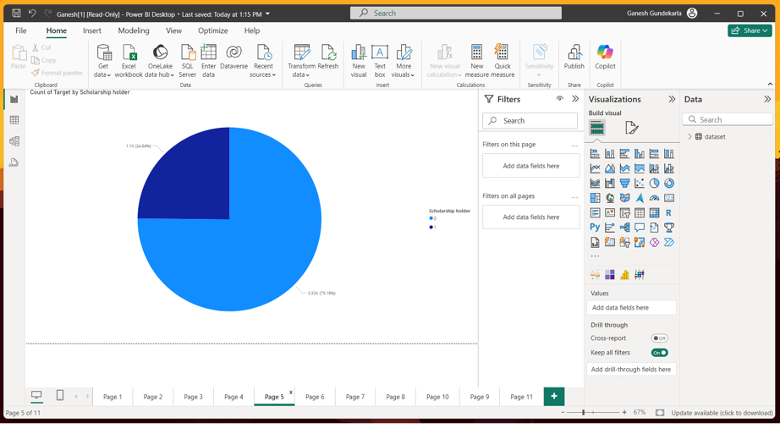

The page's visual inventory and layout, read from the dashboard file:
{"tool":"powerbi","page":{"name":"Page 5","canvas":[1280,720],"ordinal":4},"visuals":[{"type":"pieChart","fields":{"Category":["dataset.Scholarship holder","dataset.Gender"],"Y":["CountNonNull(dataset.Target)"]},"box":[9.4,0,1269.9,720],"z":0}]}

Visuals, with their boxes on the page's 1280x720 design canvas (x1, y1, x2, y2). These are canvas units, not pixel positions in the 780x425 screenshot, which may show the page scaled, cropped or inside an application window:
pieChart - dataset.Scholarship holder x dataset.Gender: Rect(9, 0, 1279, 720)
